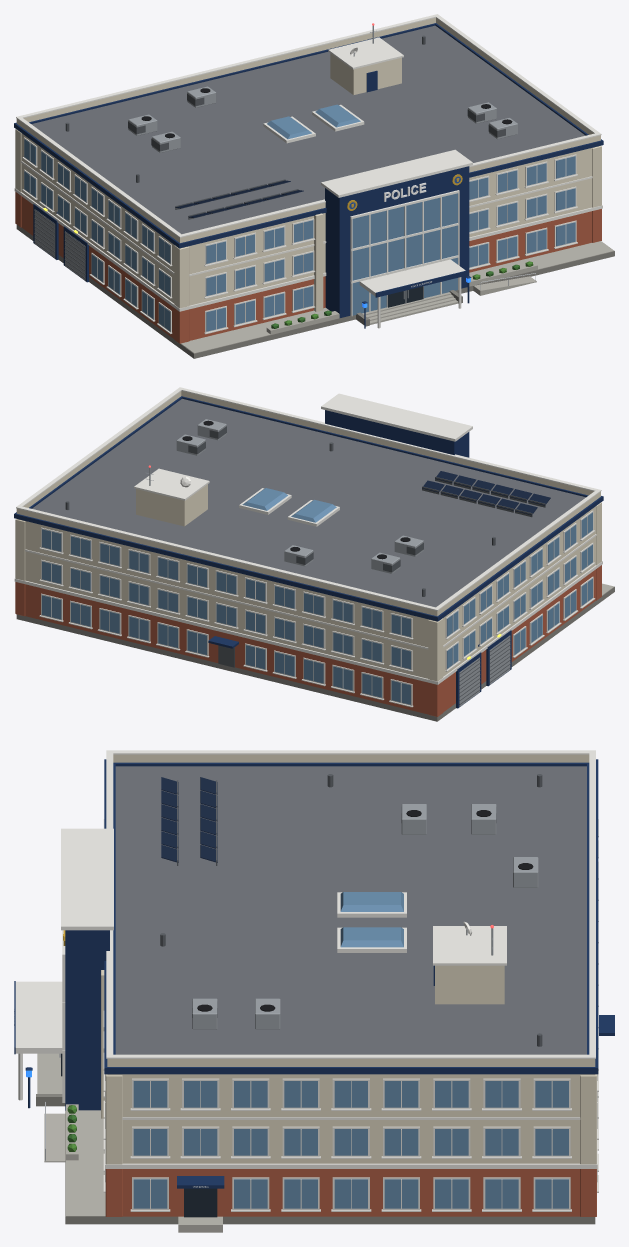
The model's file is PD_PoliceStation.fbx.
The picture shows the model from 3 angles, top to bottom: view 1: azimuth 30°, elevation 25°; view 2: azimuth 150°, elevation 25°; view 3: azimuth 270°, elevation 25°; orthographic projection. The views are drawn at different scales.
Visible parts, largest first — view 1: PD_PoliceStation_Mesh; view 2: PD_PoliceStation_Mesh; view 3: PD_PoliceStation_Mesh.
Part boxes in pixels (<box>): PD_PoliceStation_Mesh: <box>14,14,614,358</box>; PD_PoliceStation_Mesh: <box>14,387,614,721</box>; PD_PoliceStation_Mesh: <box>14,750,614,1232</box>.
Size of the model in its own units: 53.92 by 18 by 43.08.
